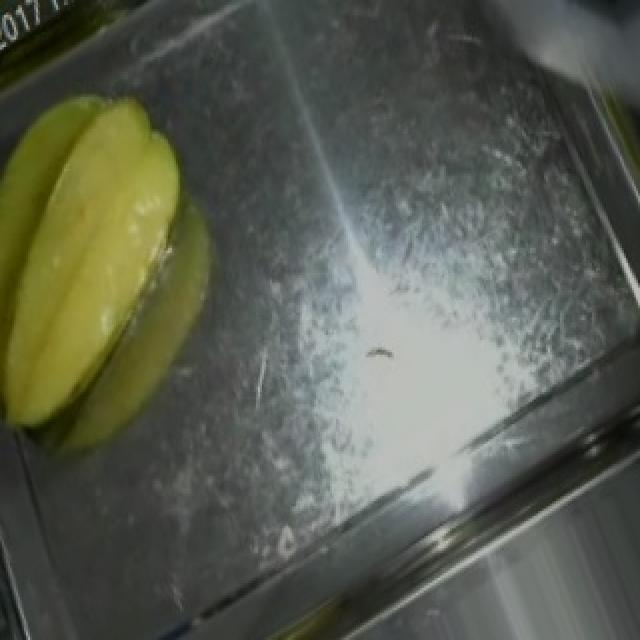fruit: (0, 60, 272, 449)
